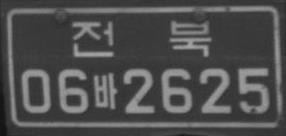0: (20, 67, 52, 114)
2: (198, 67, 232, 114), (122, 67, 155, 113)
5: (237, 66, 270, 114)
6: (160, 67, 193, 113), (57, 67, 89, 113)
바: (93, 72, 117, 109)
전북_D: (72, 19, 212, 57)
